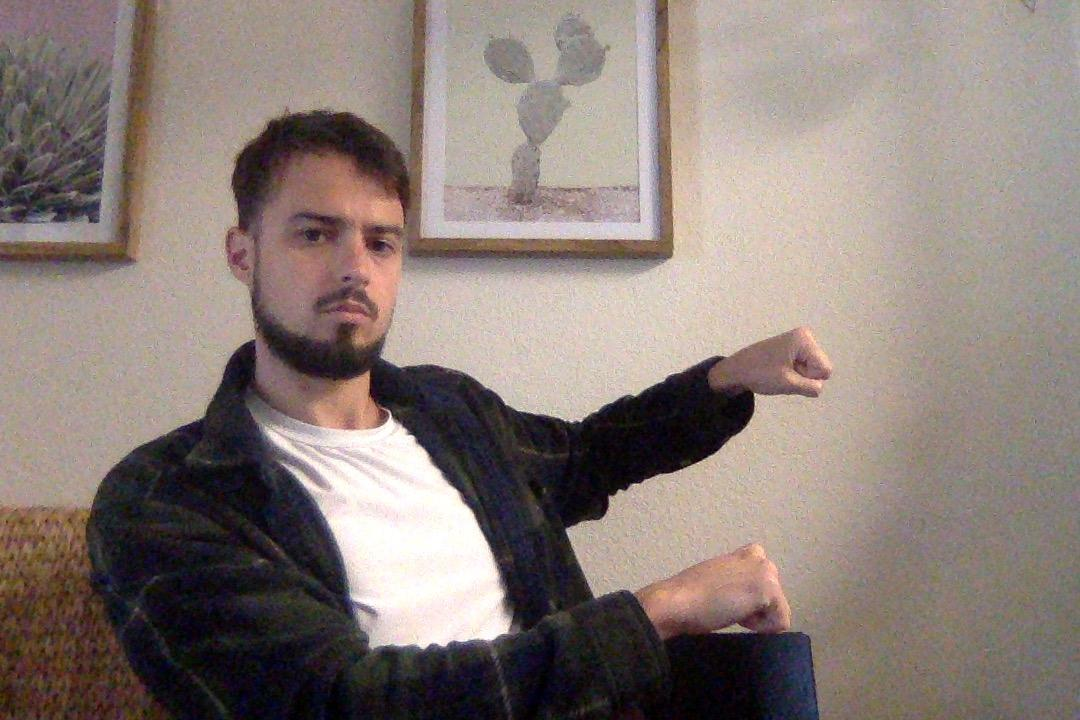Right-Fist: (630, 525, 797, 629), (698, 318, 832, 421)
